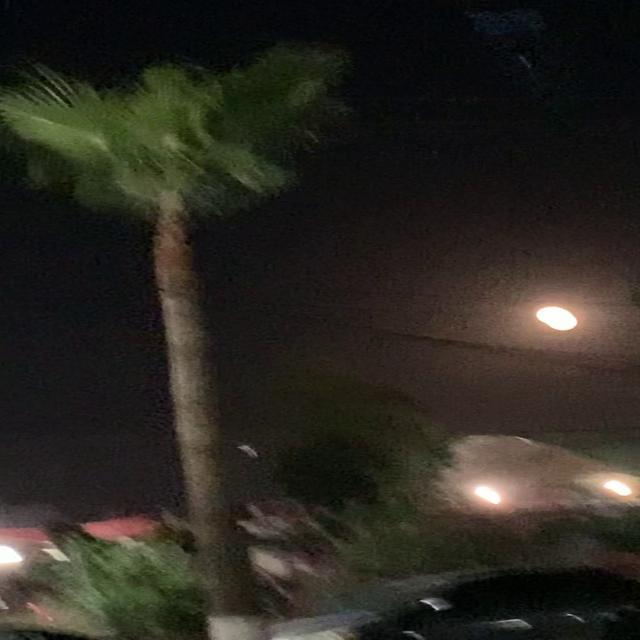moon: (523, 305, 581, 333)
